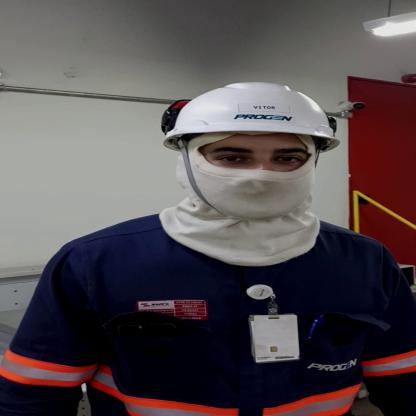Balaclava: (158, 136, 326, 272)
Capacete: (152, 79, 346, 159)
